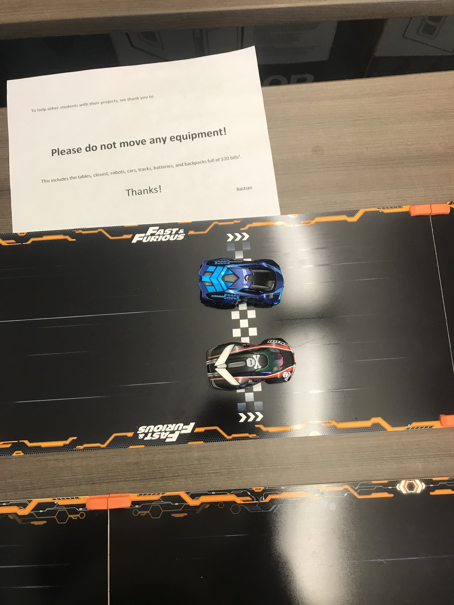Finish Line: (222, 229, 263, 424)
Shock: (197, 256, 286, 307)
Skull: (205, 338, 297, 390)
